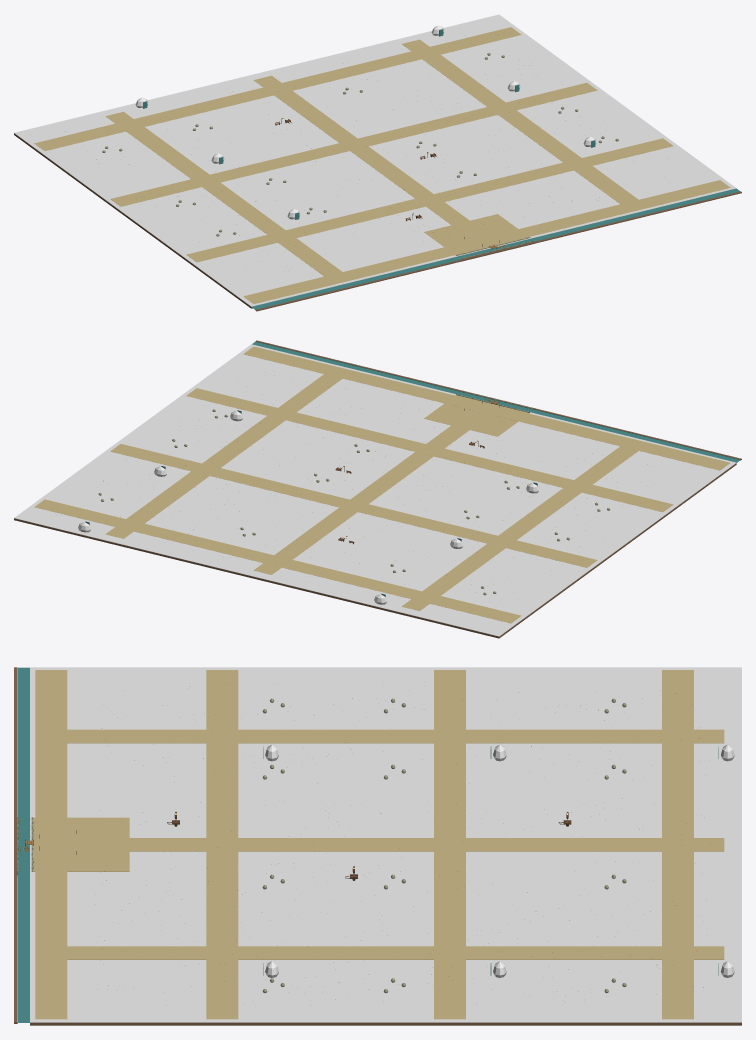
The model's file is phitsanulok-wilds.glb.
The picture shows the model from 3 angles, top to bottom: view 1: azimuth 30°, elevation 25°; view 2: azimuth 150°, elevation 25°; view 3: azimuth 270°, elevation 25°; orthographic projection. The views are drawn at different scales.
Parts seen in each view (by area): view 1: Expanded ground · meadow, Regional avenues · sand, River extension · water, Far bank extension · earth, Terrain · sand, Expanded ground · earth, Wild rocks · paving; view 2: Expanded ground · meadow, Regional avenues · sand, Expanded ground · earth, River extension · water, Terrain · sand, Far bank extension · earth, Wild rocks · paving; view 3: Expanded ground · meadow, Regional avenues · sand, River extension · water, Expanded ground · earth, Terrain · sand, Far bank extension · earth, Wild rocks · paving, Forest boulders · stone, River · water.
Part boxes in pixels (box(x1,y1,x2,y2)): Expanded ground · meadow: box(14, 14, 736, 306); Regional avenues · sand: box(34, 27, 730, 303); River extension · water: box(251, 188, 739, 309); Far bank extension · earth: box(255, 191, 741, 311); Terrain · sand: box(424, 214, 528, 255); Expanded ground · earth: box(14, 133, 252, 308); Wild rocks · paving: box(135, 25, 596, 219); Expanded ground · meadow: box(14, 344, 736, 636); Regional avenues · sand: box(34, 346, 730, 623); Expanded ground · earth: box(14, 463, 736, 638); River extension · water: box(252, 341, 740, 463); Terrain · sand: box(424, 395, 529, 436); Far bank extension · earth: box(255, 340, 741, 460); Wild rocks · paving: box(78, 411, 538, 604); Expanded ground · meadow: box(30, 667, 741, 1022); Regional avenues · sand: box(35, 670, 724, 1019); River extension · water: box(18, 667, 31, 1022); Expanded ground · earth: box(30, 1022, 741, 1025); Terrain · sand: box(33, 817, 129, 871); Far bank extension · earth: box(14, 667, 17, 1023); Wild rocks · paving: box(265, 744, 734, 977); Forest boulders · stone: box(262, 698, 626, 993); River · water: box(18, 818, 29, 872).
Bounding box in the file's own units: 236 × 6 × 204.
